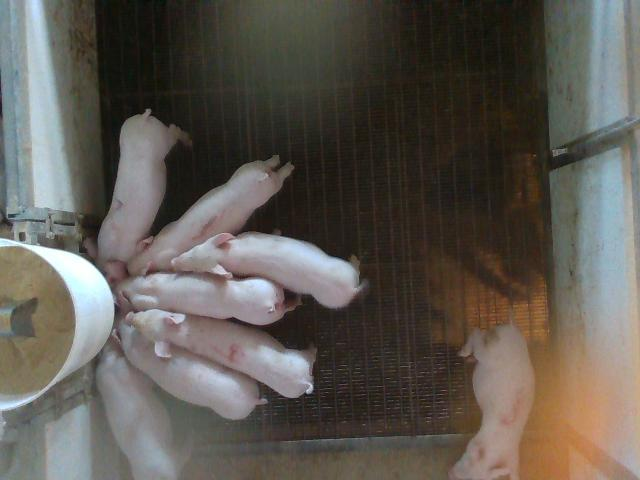pig-1: (128, 155, 294, 275)
pig-3: (449, 324, 535, 479)
pig-4: (125, 309, 316, 397)
